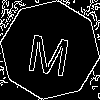M: (25, 25, 74, 77)
